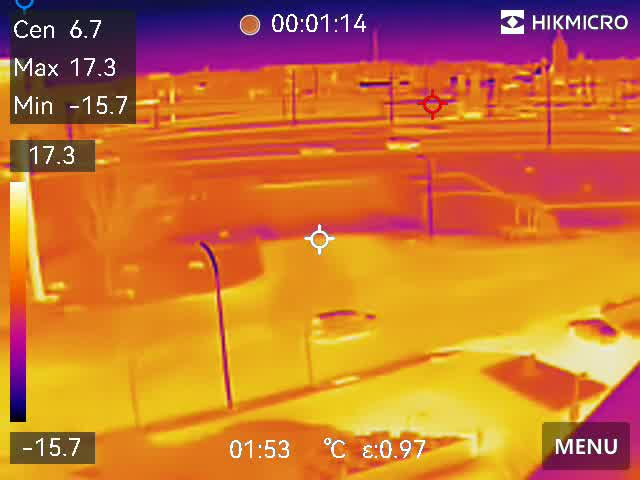heavyTruck: (382, 97, 486, 125)
smallCar: (567, 315, 617, 347)
vehicle: (312, 307, 387, 337), (295, 139, 341, 160), (385, 133, 424, 152), (612, 121, 640, 137), (514, 107, 542, 121)
